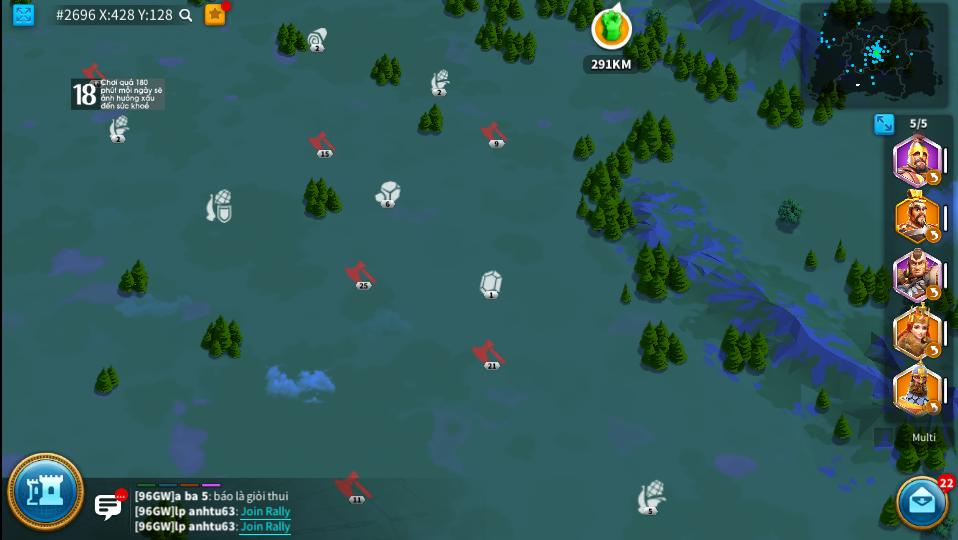gem-z-out: (480, 270, 502, 301)
march_idle: (344, 260, 380, 295), (473, 340, 512, 372), (339, 472, 369, 506), (478, 122, 515, 149), (311, 132, 336, 159)
march_returning: (925, 228, 942, 242), (926, 170, 940, 185), (927, 400, 941, 415), (926, 285, 940, 299), (928, 343, 940, 357)
